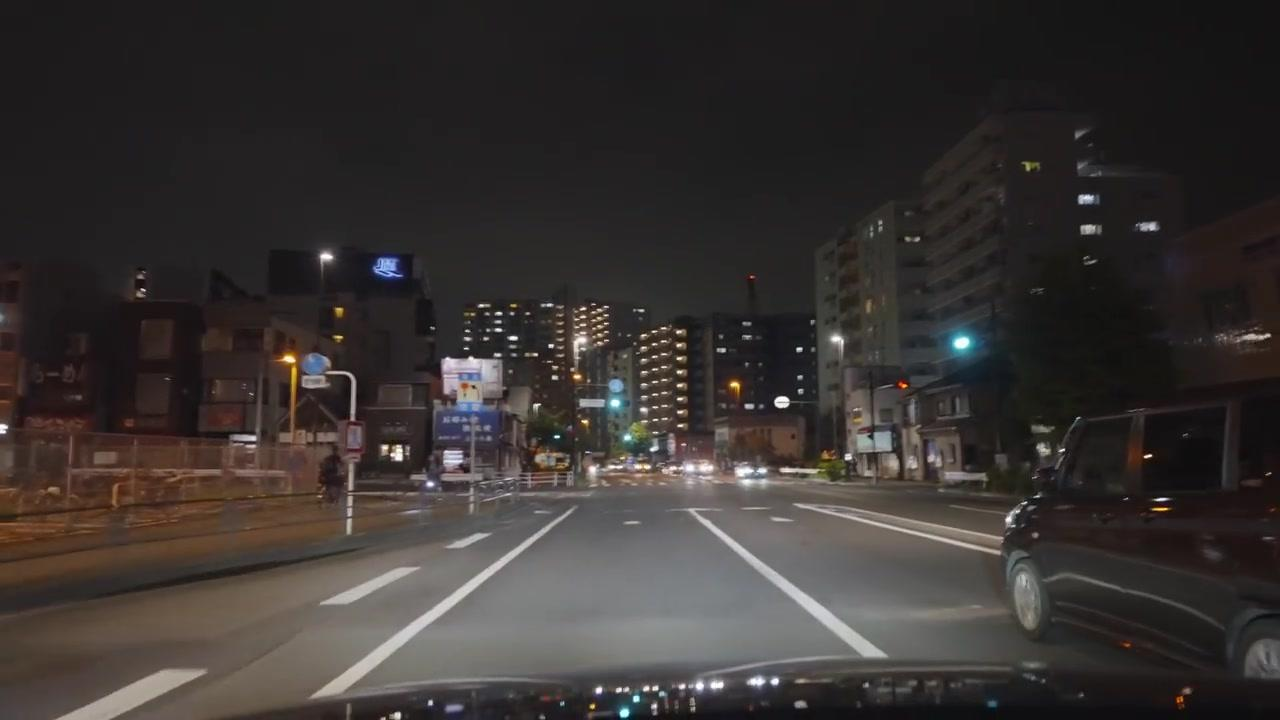car: (999, 381, 1279, 681), (941, 465, 987, 489), (735, 465, 768, 480)
person: (318, 447, 345, 505)
traffic light: (606, 379, 626, 417), (948, 330, 973, 354), (133, 268, 149, 300), (896, 379, 910, 392)
